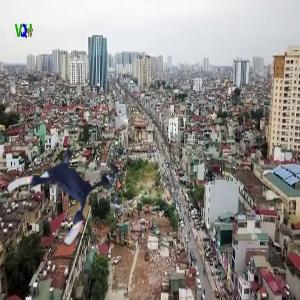drone: (12, 142, 107, 237)
